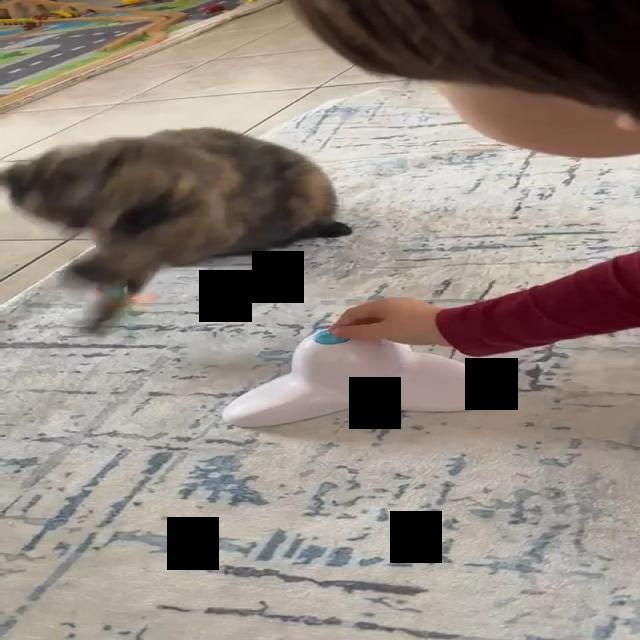authorized: (0, 126, 352, 332)
